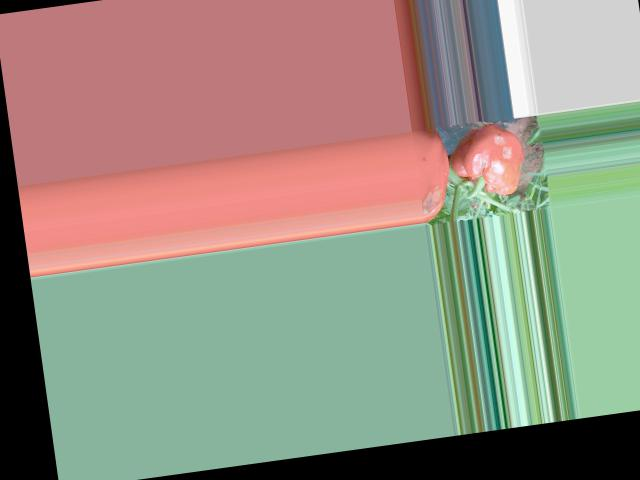bell_pepper: (446, 116, 526, 208)
